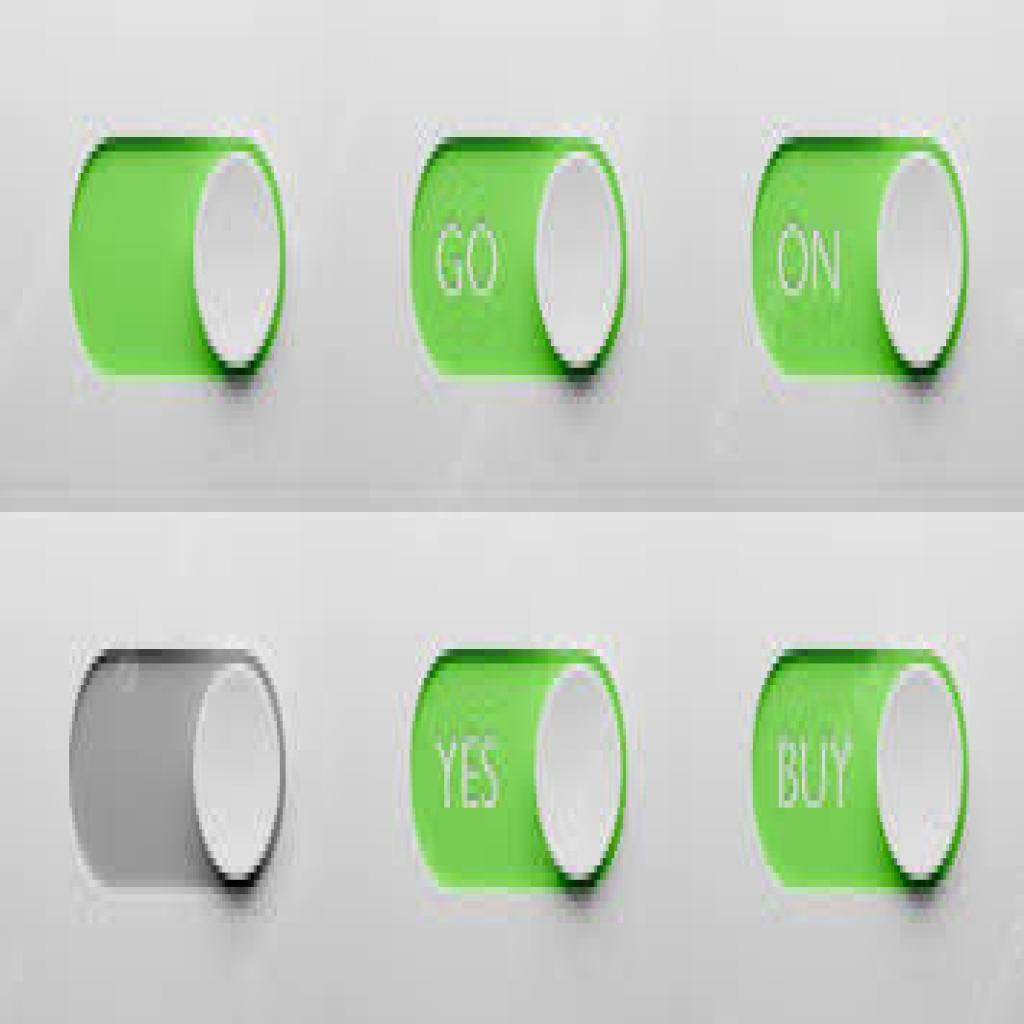switch: (400, 136, 633, 384), (745, 135, 972, 382), (412, 646, 635, 890), (66, 654, 291, 894), (750, 657, 975, 894), (70, 135, 283, 382)
